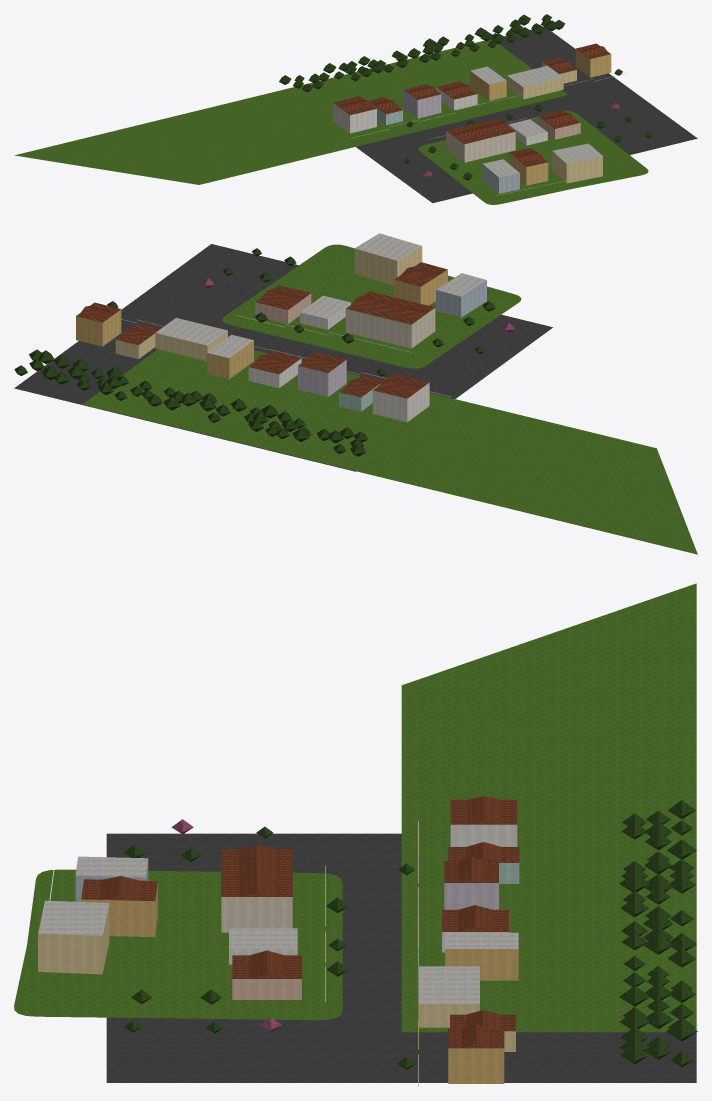
The model's file is cidade_S01_07_lod.gltf.
The picture shows the model from 3 angles, top to bottom: view 1: azimuth 30°, elevation 25°; view 2: azimuth 150°, elevation 25°; view 3: azimuth 270°, elevation 25°; orthographic projection. The views are drawn at different scales.
Parts seen in each view (by area): view 1: S01_07_Chao_LOD2, S01_07_Edificios_LOD1, S01_07_Silhueta_LOD2, S01_07_Vegetacao_LOD2; view 2: S01_07_Chao_LOD2, S01_07_Edificios_LOD1, S01_07_Silhueta_LOD2, S01_07_Vegetacao_LOD2; view 3: S01_07_Chao_LOD2, S01_07_Edificios_LOD1, S01_07_Vegetacao_LOD2, S01_07_Silhueta_LOD2.
Boxes of the visible parts, box(x1,y1,x2,y2) form: S01_07_Chao_LOD2: box(14, 26, 697, 204); S01_07_Edificios_LOD1: box(332, 46, 627, 195); S01_07_Silhueta_LOD2: box(332, 43, 611, 184); S01_07_Vegetacao_LOD2: box(279, 14, 652, 180); S01_07_Chao_LOD2: box(14, 244, 697, 554); S01_07_Edificios_LOD1: box(76, 233, 506, 421); S01_07_Silhueta_LOD2: box(76, 262, 447, 421); S01_07_Vegetacao_LOD2: box(14, 248, 514, 456); S01_07_Chao_LOD2: box(14, 583, 696, 1082); S01_07_Edificios_LOD1: box(38, 796, 519, 1086); S01_07_Vegetacao_LOD2: box(123, 800, 697, 1069); S01_07_Silhueta_LOD2: box(81, 799, 519, 1082).
Size of the model in its own units: 204 by 8.77 by 116.
14 materials, 14 textured.
